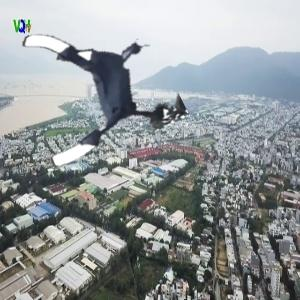drone: (19, 11, 166, 158)
